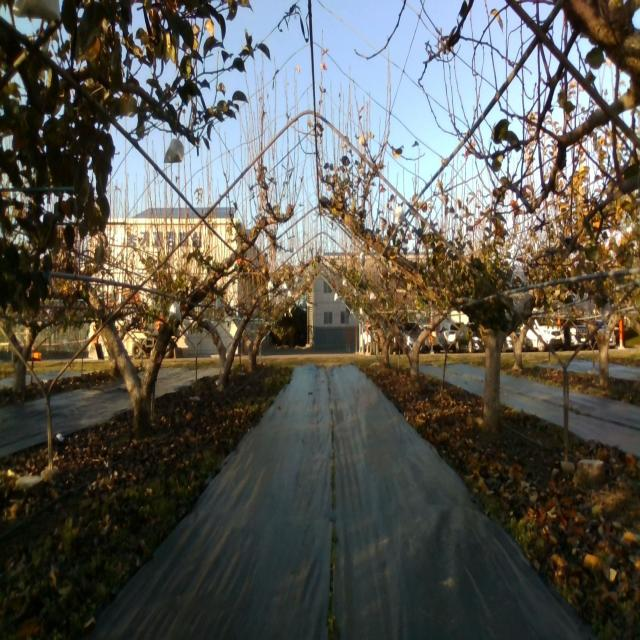pearbags: (163, 139, 184, 163), (168, 301, 182, 322), (393, 203, 406, 224)
